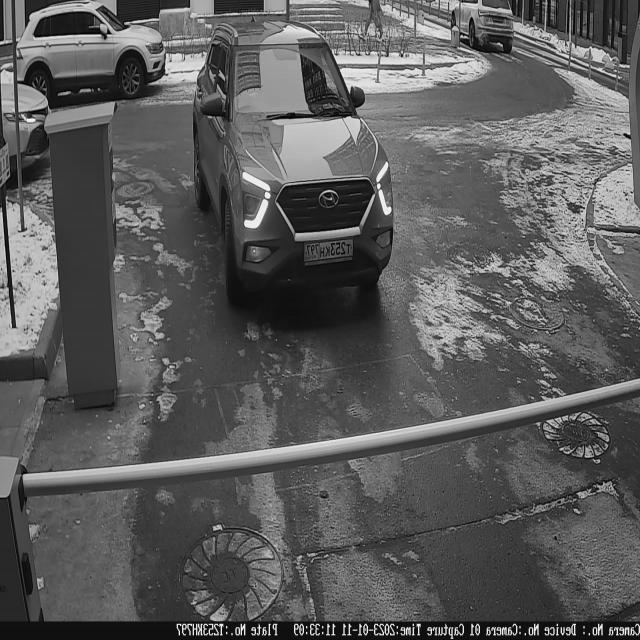car-plate-numbers: (303, 237, 357, 270)
